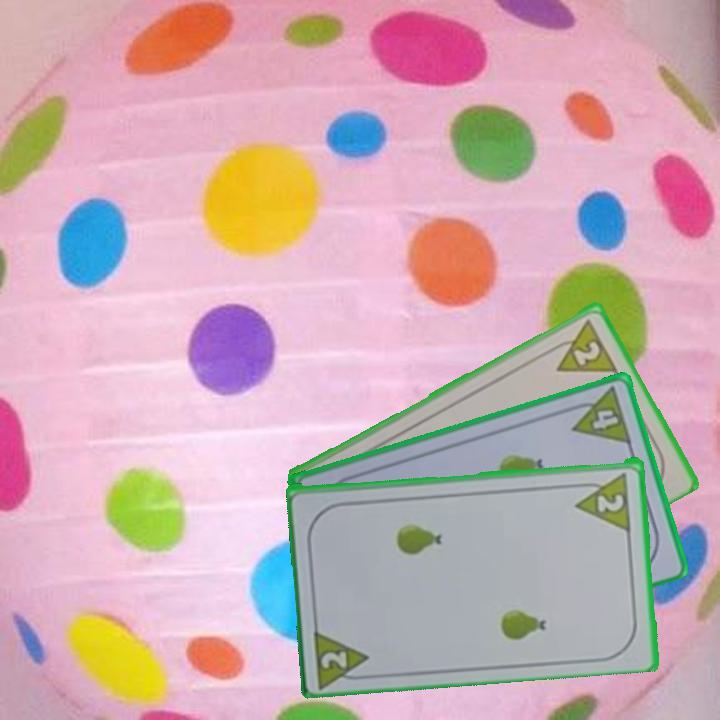2p: (543, 315, 620, 375), (310, 623, 375, 688), (594, 490, 627, 514)
4p: (563, 383, 635, 447)
